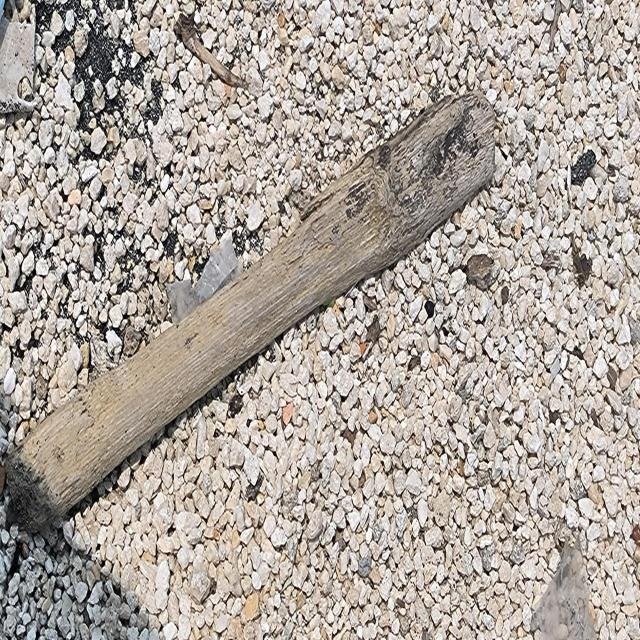wood_waste: (7, 94, 497, 530)
